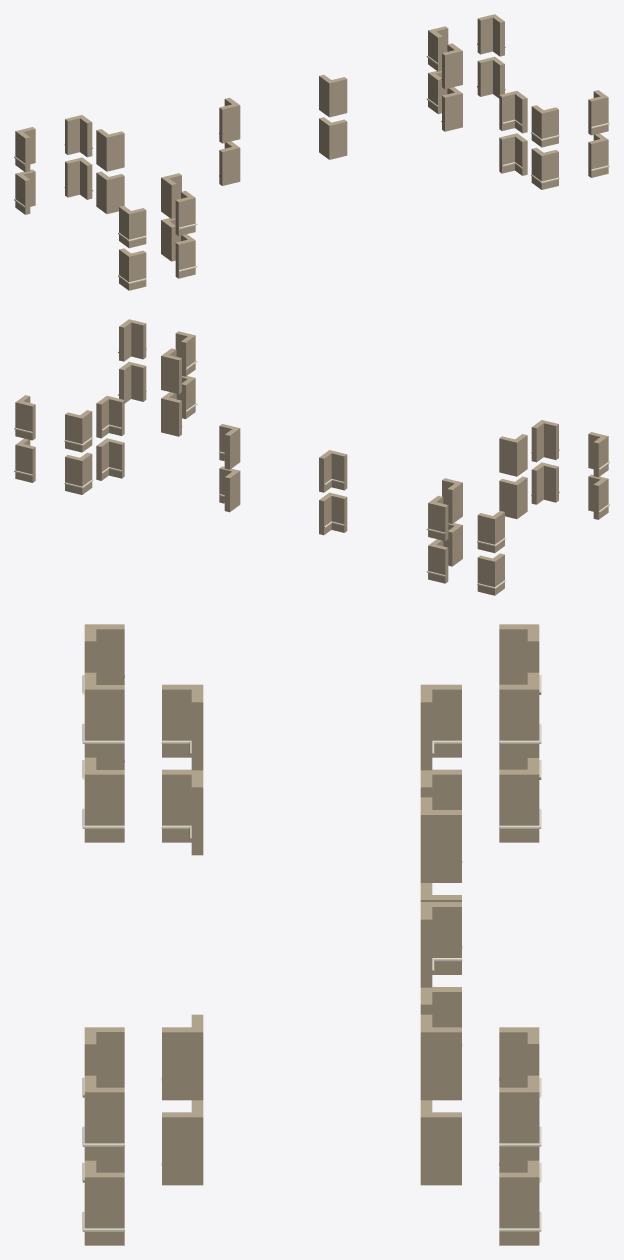
File: SM_Corners2.glb
3 renders of one model, top to bottom at view 1: azimuth 30°, elevation 25°; view 2: azimuth 150°, elevation 25°; view 3: azimuth 270°, elevation 25°, orthographic. The views are drawn at different scales.
Visible parts, largest first — view 1: Trim1.007; view 2: Trim1.007; view 3: Trim1.007.
Boxes of the visible parts, <box> form: Trim1.007: <box>14,14,609,290</box>; Trim1.007: <box>14,319,609,595</box>; Trim1.007: <box>82,624,541,1245</box>.
Size of the model in its own units: 59.25 by 9 by 24.45.
